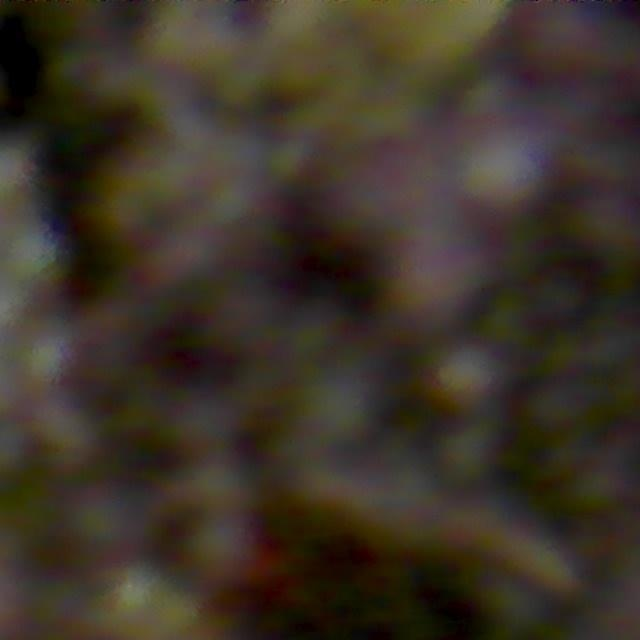SeaGrape: (187, 517, 259, 588)
